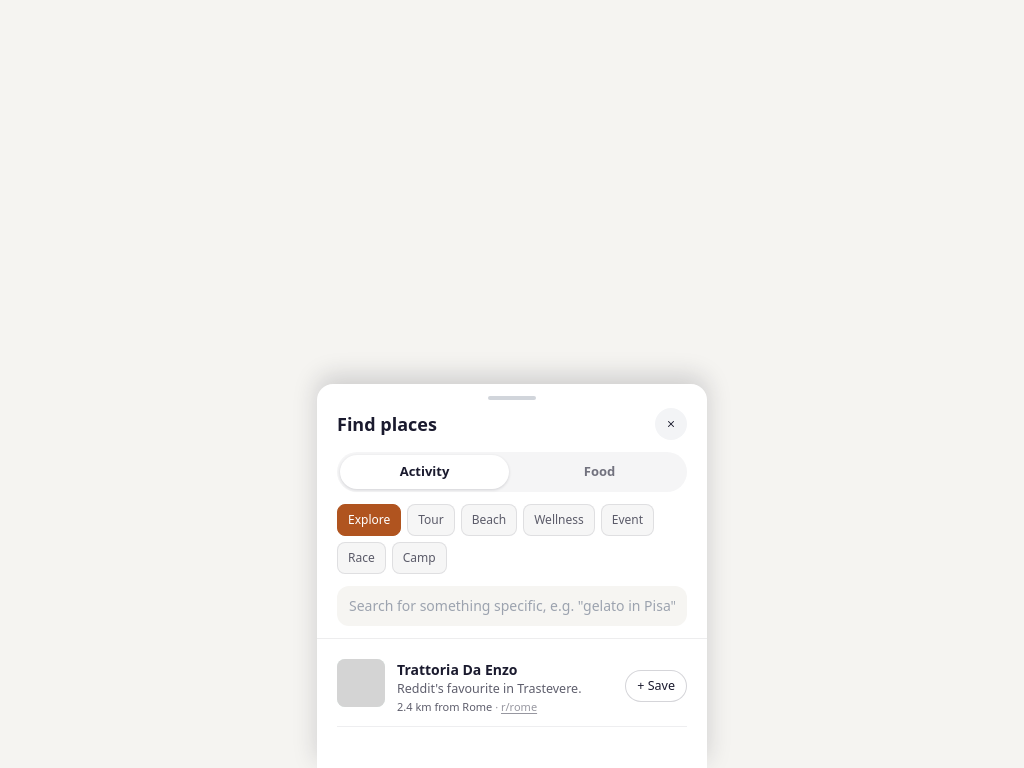
Test: Find sheet › Save imports the place with the category's type and adds one saved pin
Click the button "+ Save" at (656, 686), box [625, 670, 687, 702]
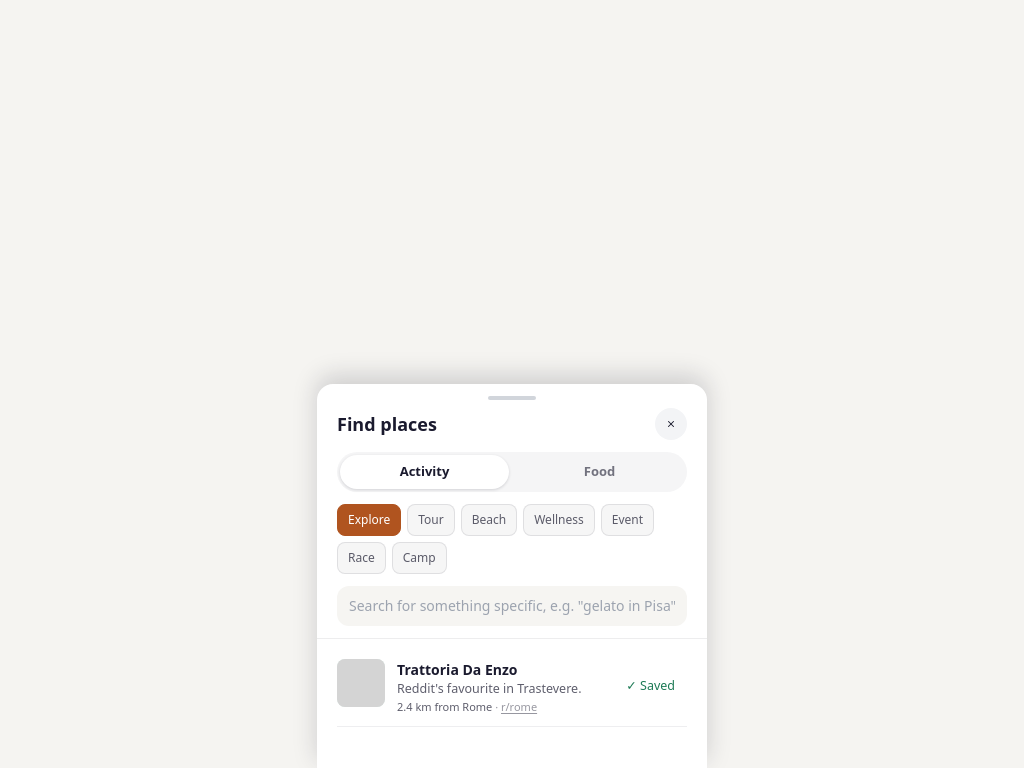
Expected: the button with test id "find-save" reads "✓ Saved", [614, 670, 687, 702]
Expected: the button with test id "find-save" is disabled, [614, 670, 687, 702]
